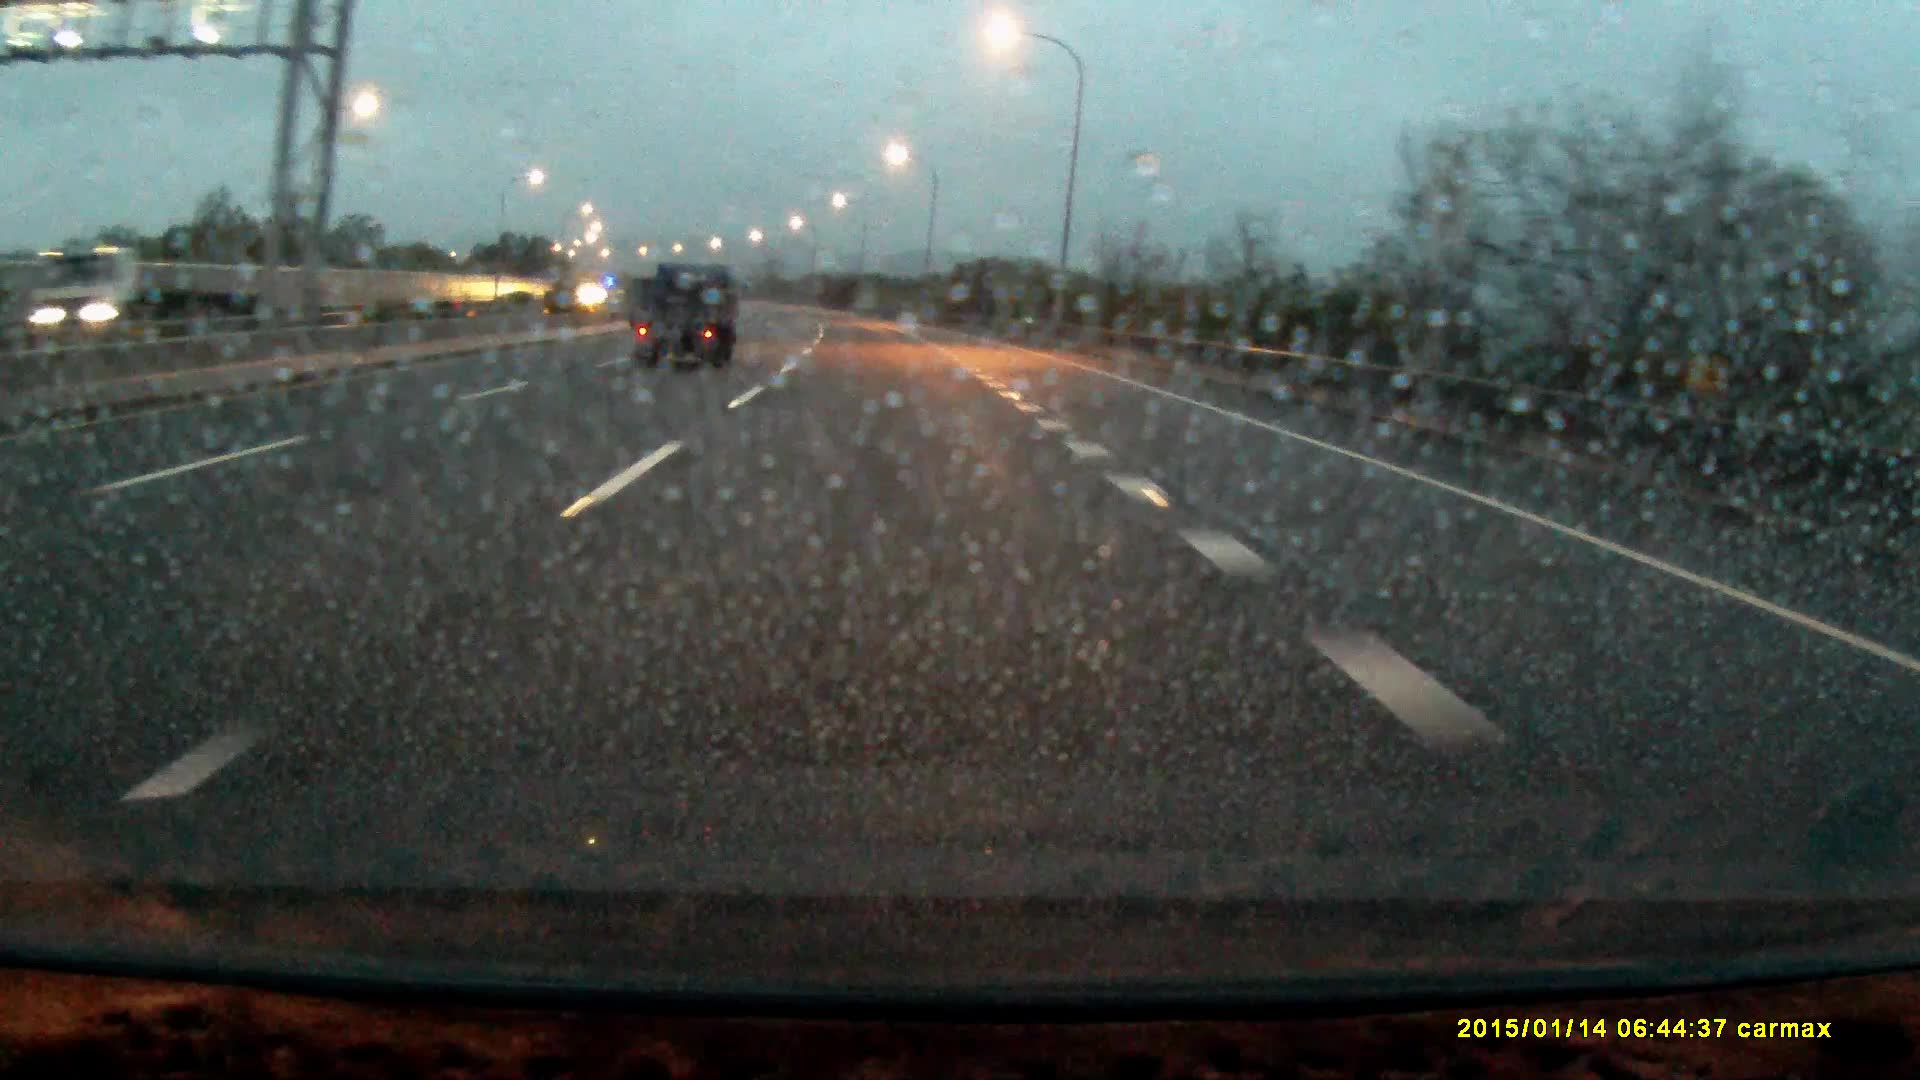vehicle: (26, 249, 257, 326), (633, 262, 741, 372)
